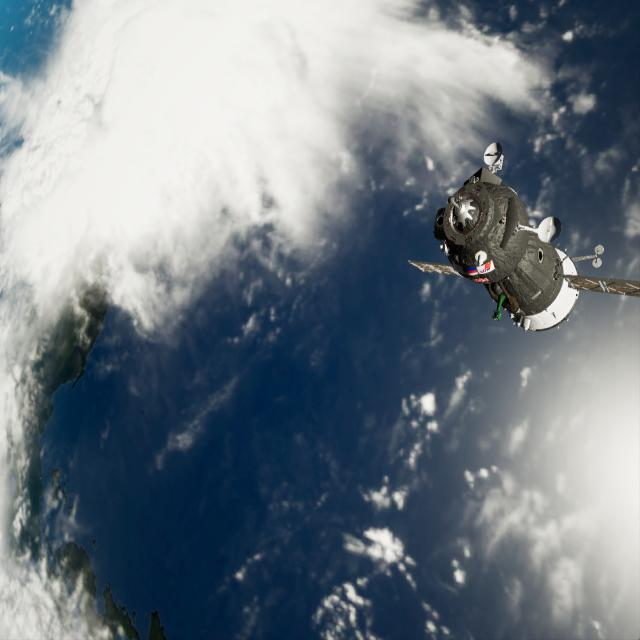Satellites revolving around earth: (406, 139, 638, 336)
